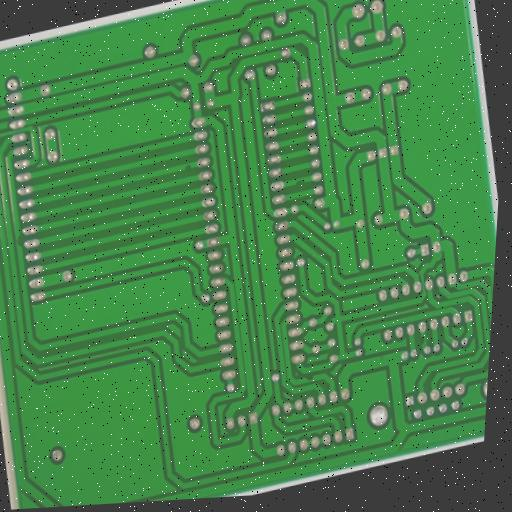mouse_bite: (12, 230, 26, 250), (292, 174, 308, 190), (181, 159, 194, 173), (416, 333, 429, 346), (303, 372, 316, 385)
